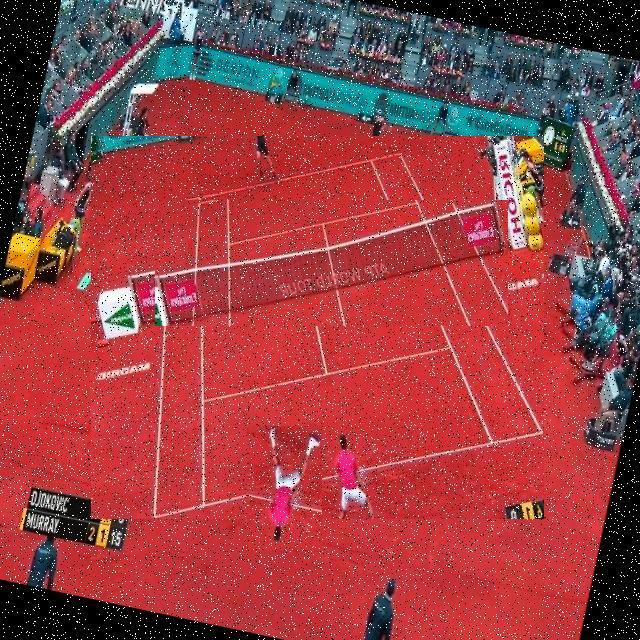court: (92, 136, 546, 519)
net: (156, 200, 508, 326)
player: (248, 426, 322, 550)
